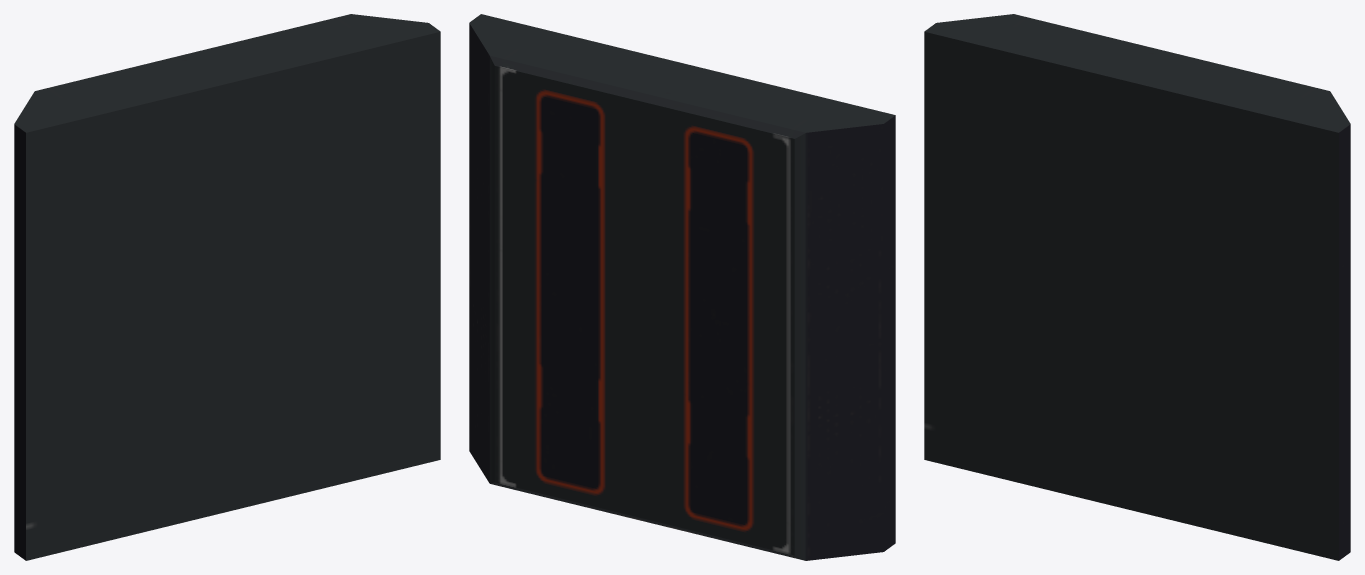
File: Interior2_panel_SciFi_9_BS.fbx
3 renders of one model, left to right at view 1: azimuth 30°, elevation 25°; view 2: azimuth 150°, elevation 25°; view 3: azimuth 330°, elevation 25°, orthographic.
Visible parts, largest first — view 1: Interior2_panel_SciFi_9_BS; view 2: Interior2_panel_SciFi_9_BS; view 3: Interior2_panel_SciFi_9_BS.
Part boxes in pixels (x1,y1,x2,y2): Interior2_panel_SciFi_9_BS: (14, 14, 440, 560); Interior2_panel_SciFi_9_BS: (469, 14, 895, 560); Interior2_panel_SciFi_9_BS: (924, 14, 1350, 560).
Bounding box in the file's own units: 199 × 196 × 36.35.
Materials: 1 (1 with a texture image).
